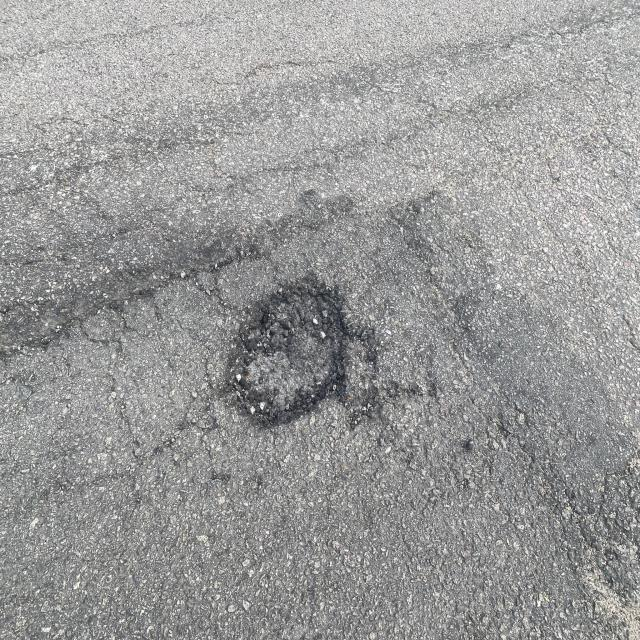Pothole: (200, 248, 384, 453)
